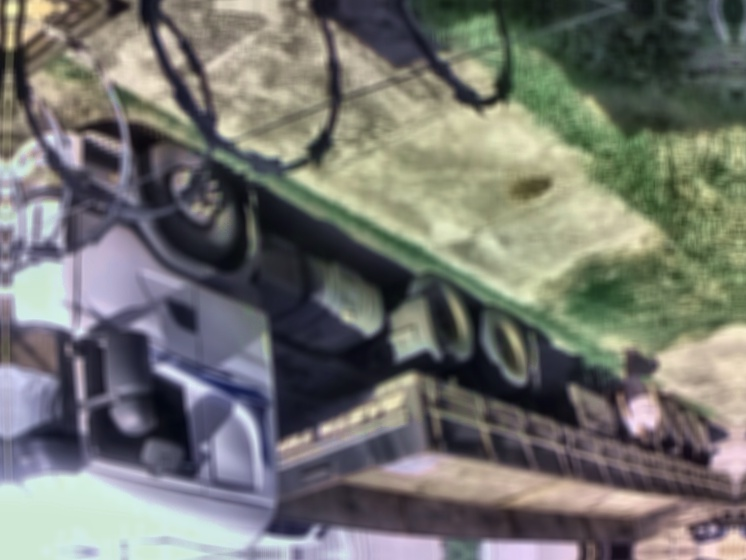person: (616, 340, 662, 447)
